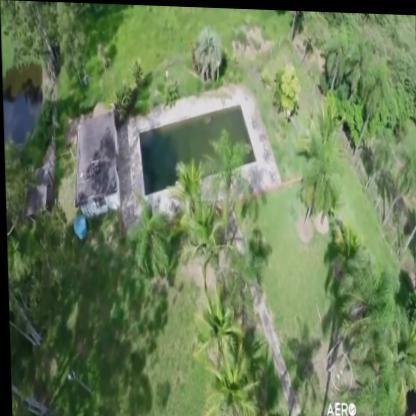agua: (146, 107, 244, 180)
